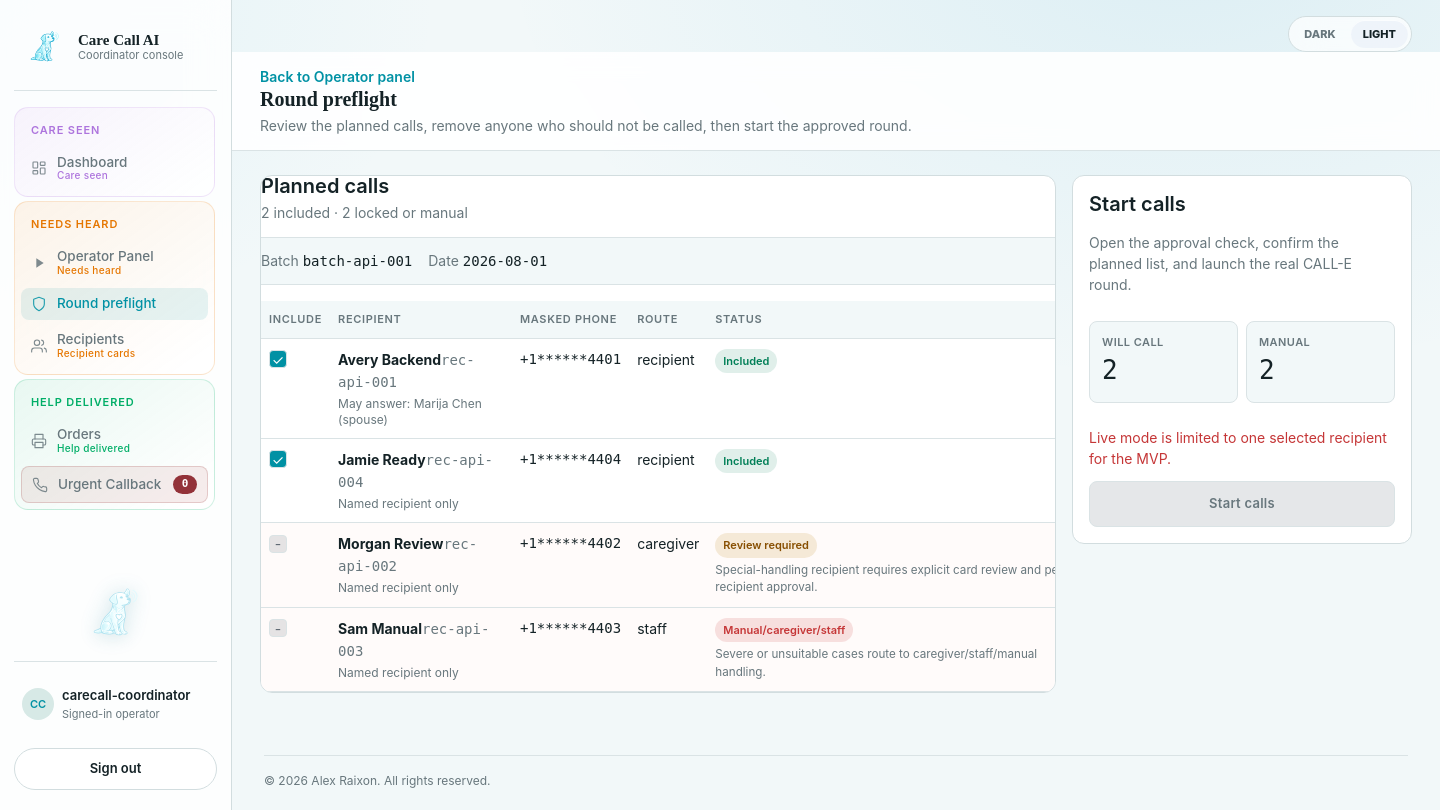
Test: PreflightPage › shows only support-safe copy when preflight selection rebuild fails
The width and height of the screenshot is (1440, 810).
Click the checkbox named "Include Avery Backend in preflight": click(278, 359) x1=269 y1=350 x2=287 y2=368
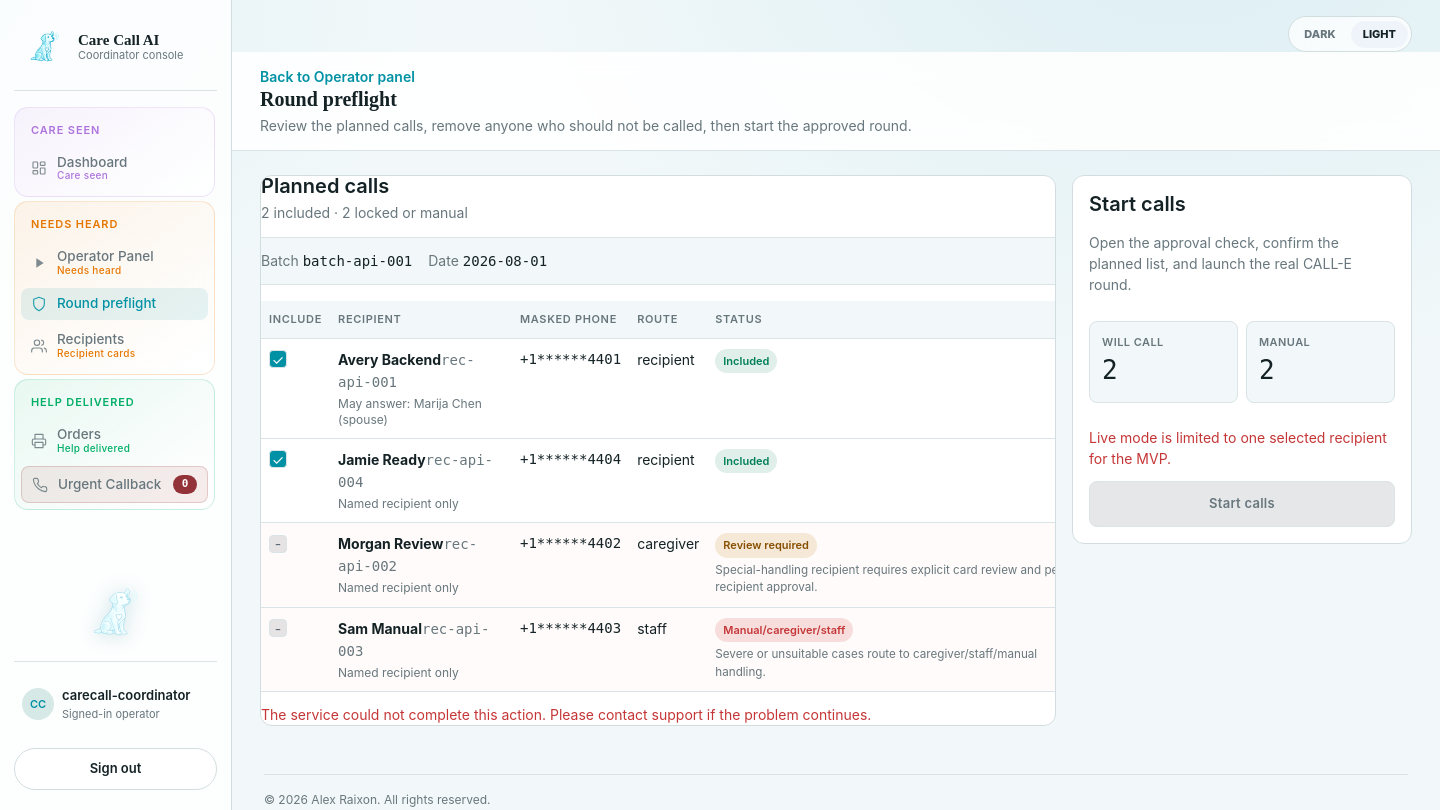
Expected: the text "Avery Backend" is shown, x1=338 y1=350 x2=441 y2=368
Expected: the text "The service could not complete this action. Please contact support if the problem continues." is shown, x1=261 y1=706 x2=871 y2=723
